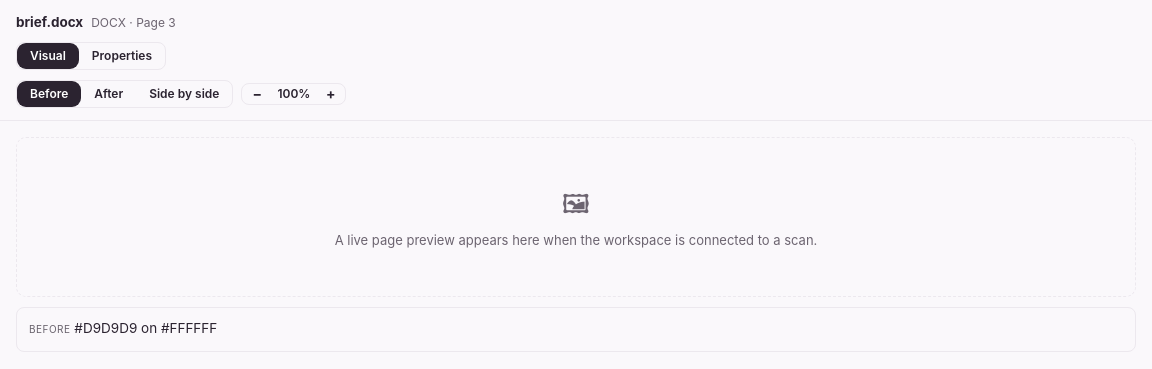
Test: RemediationPreview — contextual document pane › offers a UI-only zoom control in Visual mode that steps the percentage
This screenshot has width=1152, height=369.
Expected: the button "−" is shown, [242, 84, 272, 104]
Click the button "+" at point(331, 94), box [316, 84, 345, 104]
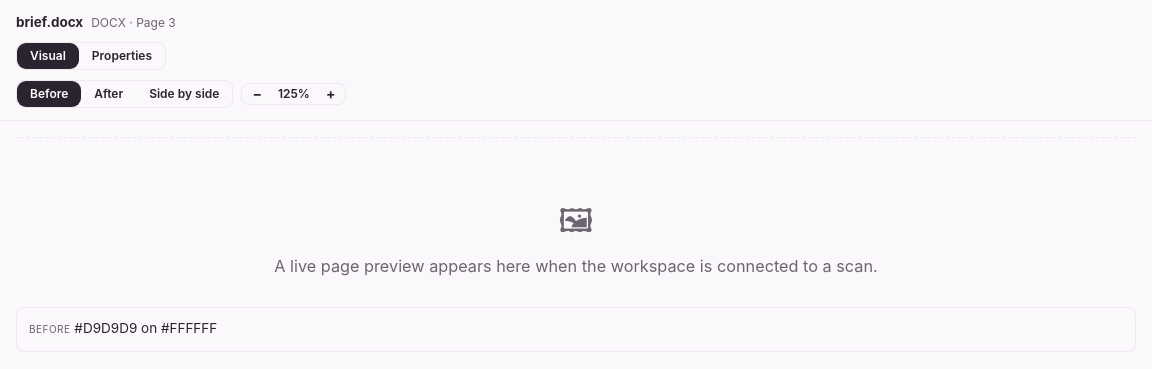
Now the text "125%" is shown, box [278, 86, 310, 101]
Click the button "−" at point(257, 94), box [242, 84, 272, 104]
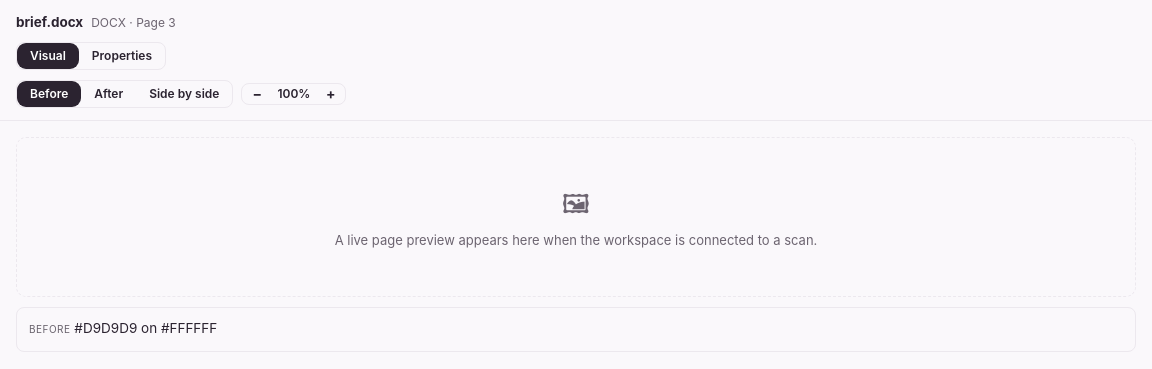
Click the button "−" at point(257, 94), box [242, 84, 272, 104]
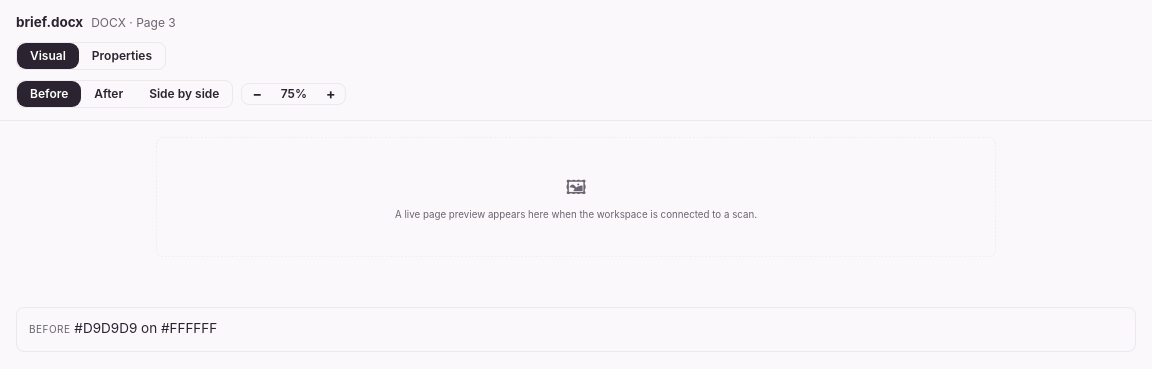
Now the text "75%" is shown, box [281, 86, 307, 101]
